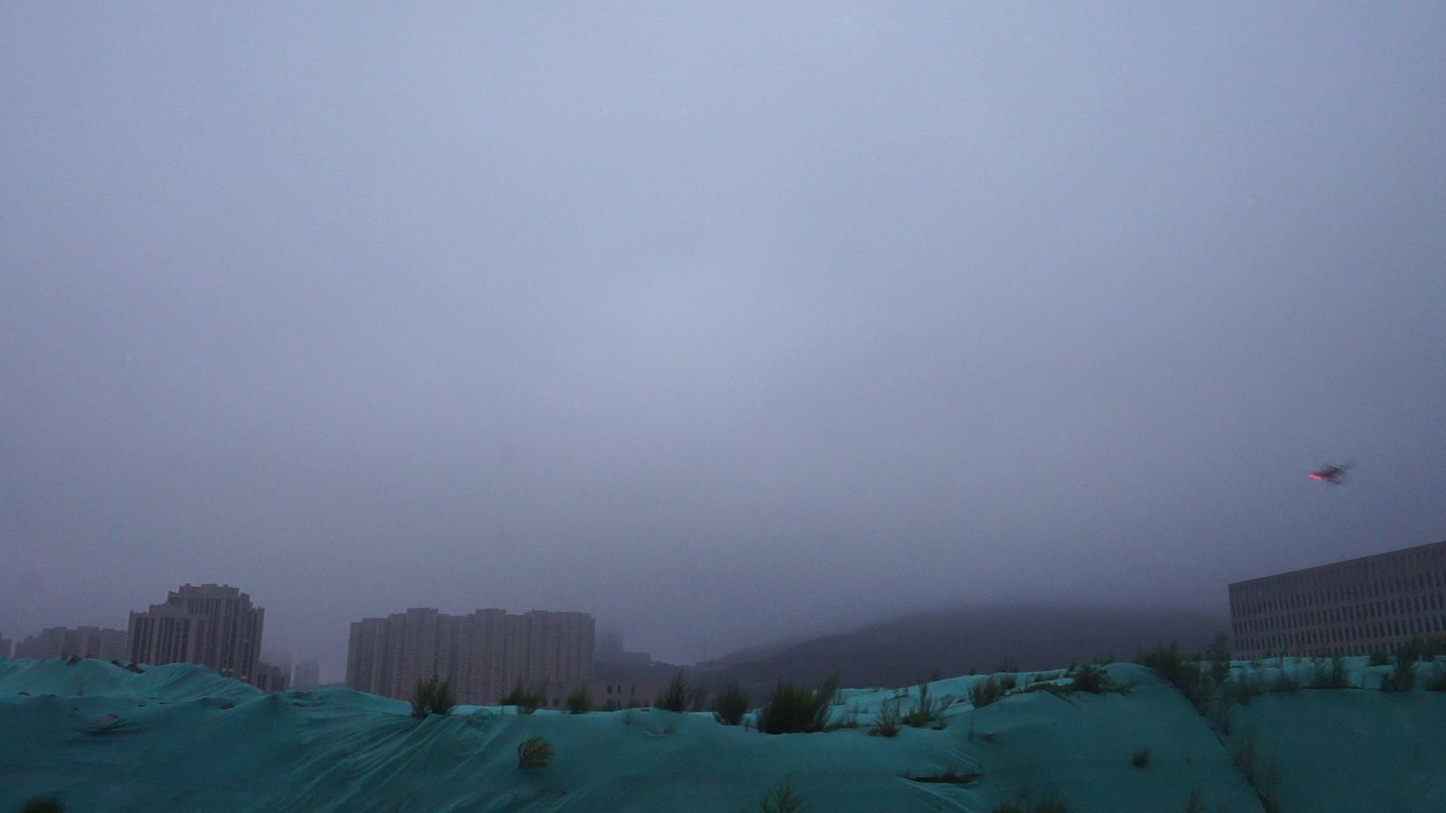UAV: (1307, 464, 1355, 486)
